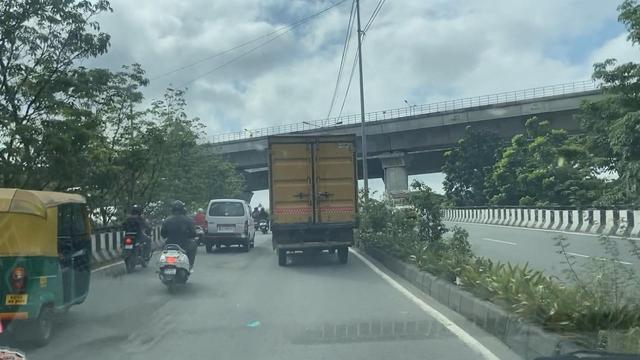HMV: (270, 137, 358, 270)
LMV: (0, 188, 92, 357), (203, 198, 254, 251), (163, 202, 191, 289), (122, 204, 144, 276)
